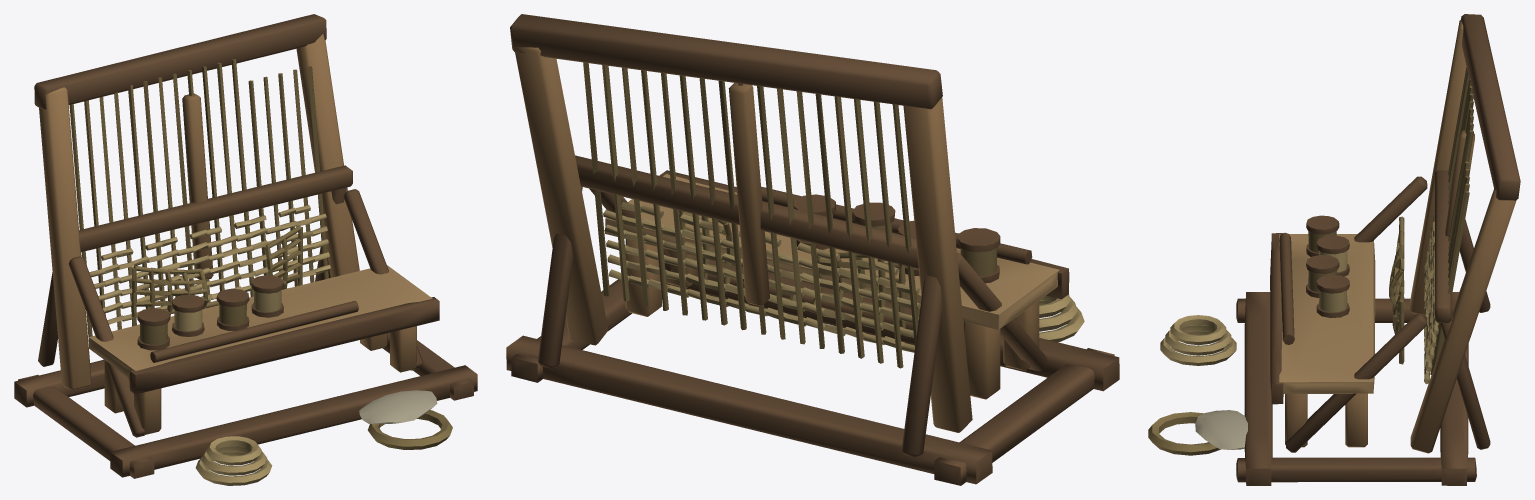
File: loom_frame_b_lod1.glb
3 views of the same model, side by side, from view 1: azimuth 30°, elevation 25°; view 2: azimuth 150°, elevation 25°; view 3: azimuth 270°, elevation 25° (orthographic). The views are drawn at different scales.
Visible parts, largest first — view 1: Surface.001; view 2: Surface.001; view 3: Surface.001.
Boxes of the visible parts, x1=… form: Surface.001: x1=14, y1=14, x2=477, y2=485; Surface.001: x1=506, y1=14, x2=1119, y2=485; Surface.001: x1=1148, y1=14, x2=1520, y2=485.
Bounding box in the file's own units: 5.6 × 4.58 × 4.95.
